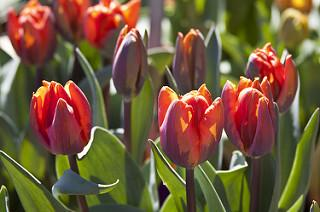tulip: (158, 84, 224, 167), (221, 80, 277, 158), (32, 82, 91, 153), (245, 43, 298, 111), (5, 0, 58, 66), (85, 0, 141, 53), (113, 28, 148, 103), (171, 29, 208, 92), (53, 0, 92, 46)
